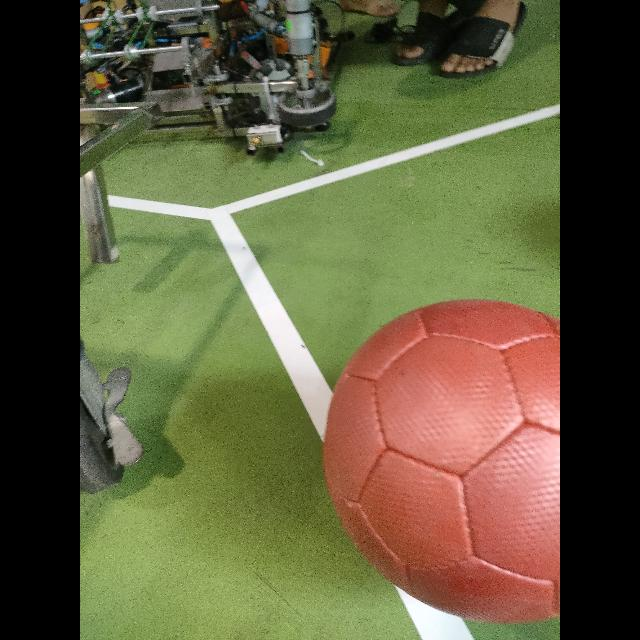R: (323, 298, 559, 624)
